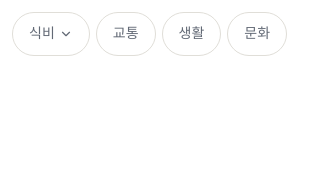
Scenario: CategoryChips › 선택된 대분류를 다시 탭하면 선택 해제되고 소분류 행이 접힌다
The width and height of the screenshot is (332, 172).
Click the option with test id "category-chip-식비": (51, 34) [12, 12, 90, 56]
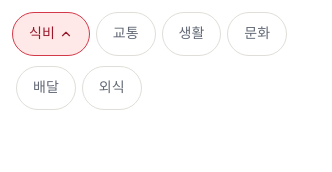
Click the option with test id "category-chip-식비": (51, 34) [12, 12, 90, 56]
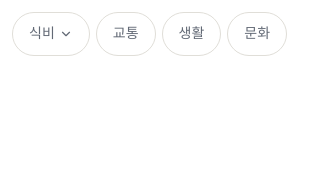
Result: the element with test id "category-child-row" is gone
